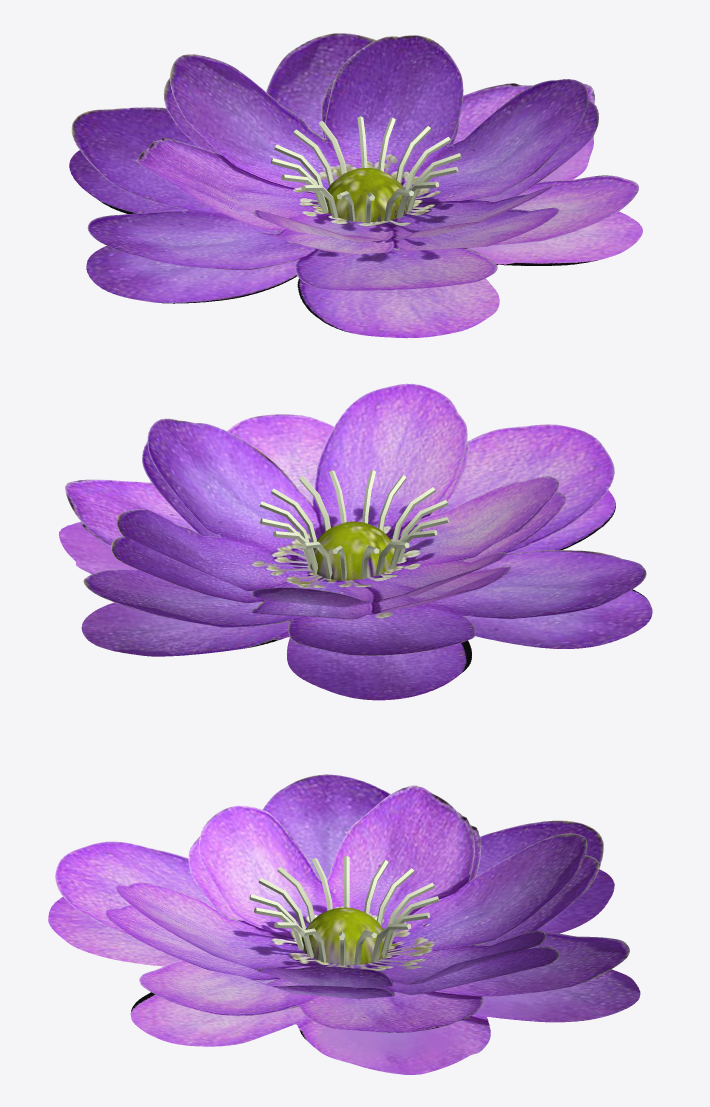
Rendered from V_Fleur_animated.FBX.
3 renders of one model, top to bottom at view 1: azimuth 30°, elevation 25°; view 2: azimuth 150°, elevation 25°; view 3: azimuth 270°, elevation 25°, orthographic.
Parts seen in each view (by area): view 1: V_Petals01, V_Petals02, V_Petals02_back, V_Petals01_back, V_Fleur; view 2: V_Petals01, V_Petals02, V_Petals02_back, V_Petals01_back, V_Fleur; view 3: V_Petals01, V_Petals02, V_Petals02_back, V_Petals01_back, V_Fleur.
Boxes of the visible parts, x1=… form: V_Petals01: x1=147, y1=35, x2=588, y2=242; V_Petals02: x1=71, y1=33, x2=638, y2=290; V_Petals02_back: x1=69, y1=136, x2=642, y2=338; V_Petals01_back: x1=136, y1=78, x2=598, y2=254; V_Fleur: x1=271, y1=116, x2=461, y2=223; V_Petals01: x1=116, y1=383, x2=558, y2=607; V_Petals02: x1=65, y1=414, x2=646, y2=655; V_Petals02_back: x1=59, y1=490, x2=652, y2=700; V_Petals01_back: x1=111, y1=441, x2=565, y2=619; V_Fleur: x1=259, y1=470, x2=448, y2=580; V_Petals01: x1=115, y1=785, x2=587, y2=987; V_Petals02: x1=55, y1=774, x2=629, y2=1033; V_Petals02_back: x1=48, y1=869, x2=640, y2=1074; V_Petals01_back: x1=105, y1=812, x2=598, y2=999; V_Fleur: x1=249, y1=856, x2=439, y2=965.
Size of the model in its own units: 65.38 by 11.97 by 65.22.
